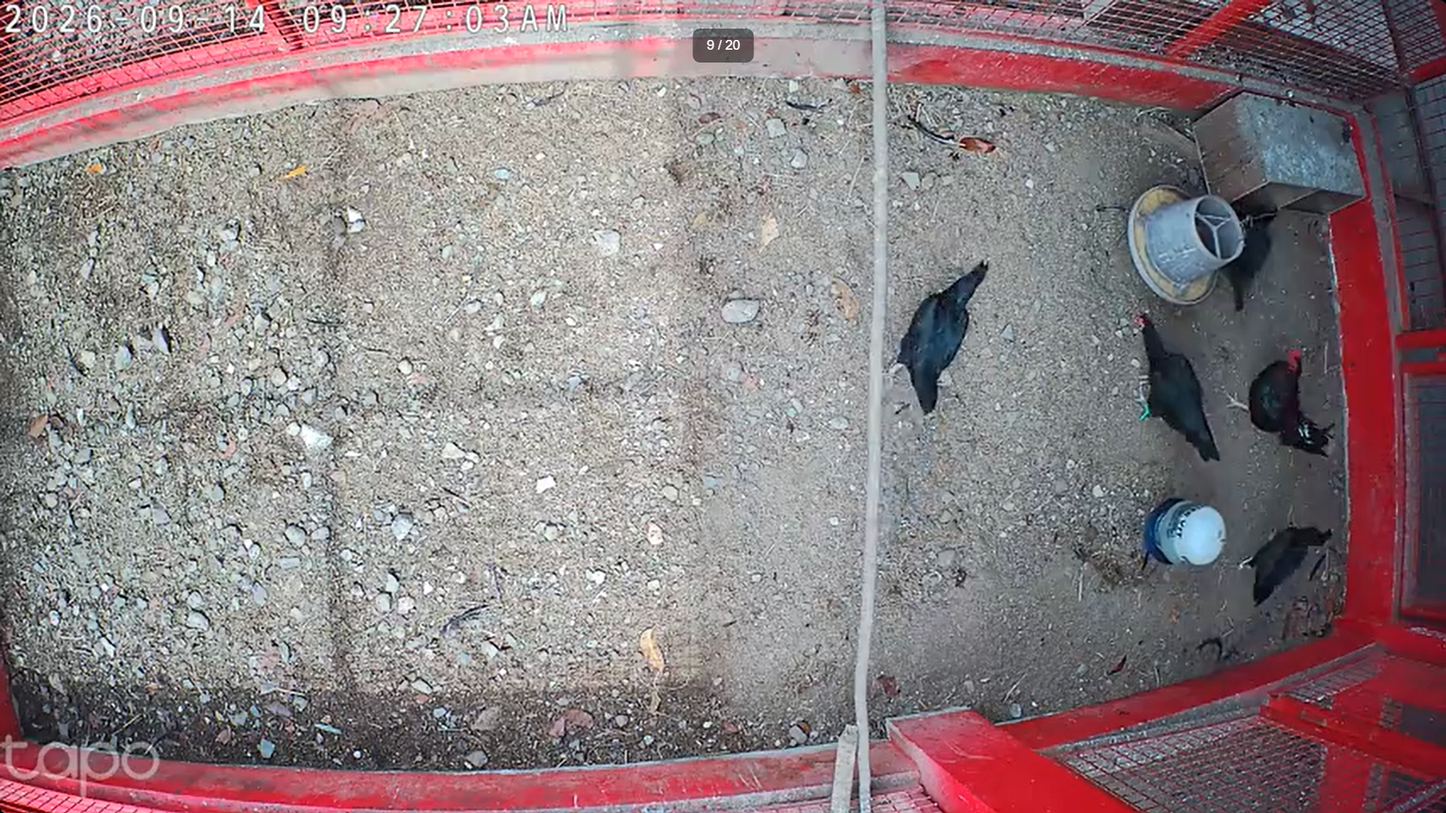Chicken: (891, 253, 994, 415), (1128, 314, 1223, 465), (1237, 526, 1336, 606), (1216, 204, 1279, 316)
Leg_Band_Green: (1139, 400, 1152, 422)
Leg_Band_White: (1237, 556, 1255, 568)
Rooster: (1225, 348, 1332, 460)
